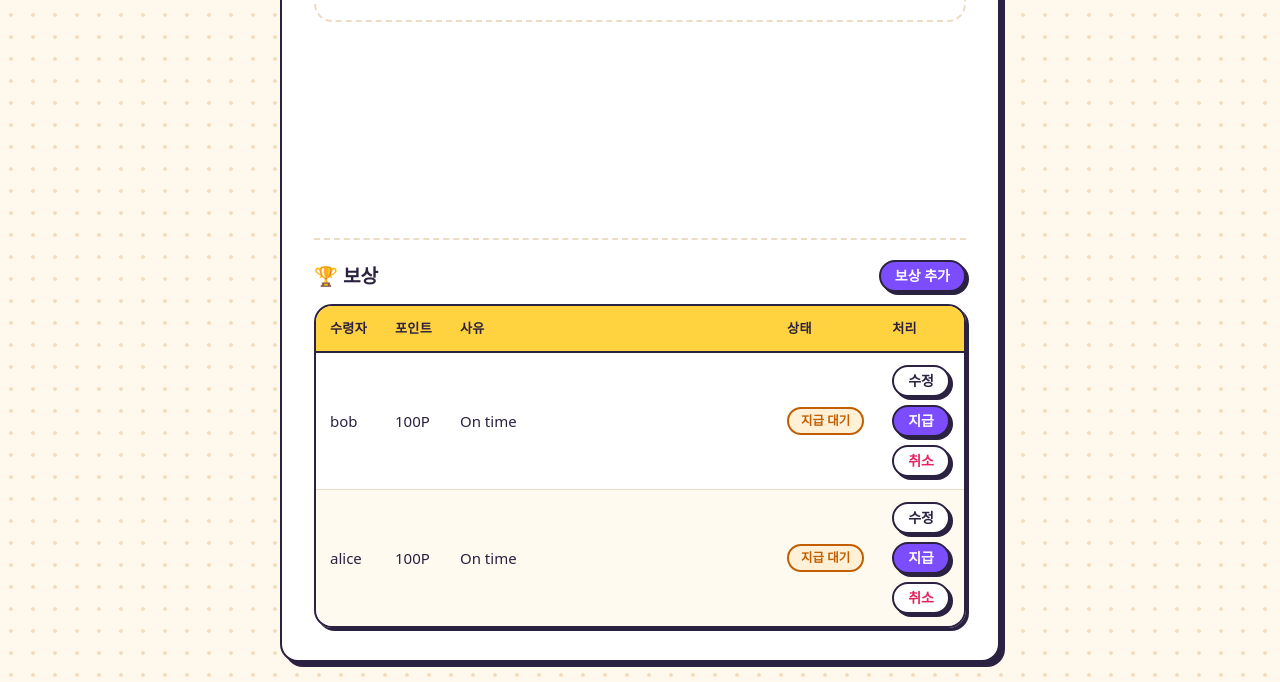
rewards › schedule detail section › pays after confirmation and edits with the loaded version
(page scrolled)
Click the button with aria-label "bob 보상 지급".
click(921, 421)  # box [892, 405, 950, 437]
(page scrolled)
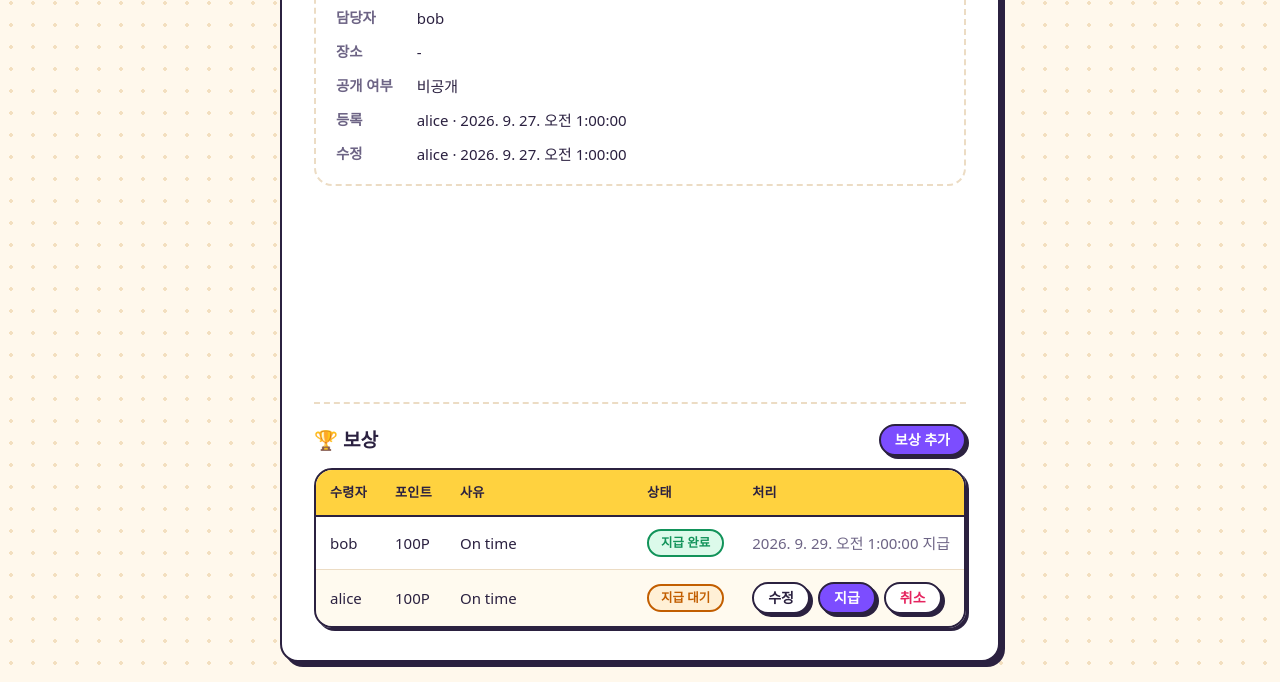
Result: the text "지급 완료" is shown at [647, 529, 724, 557]
Click the button with aria-label "alice 보상 수정".
click(781, 598)  # box [752, 582, 810, 614]
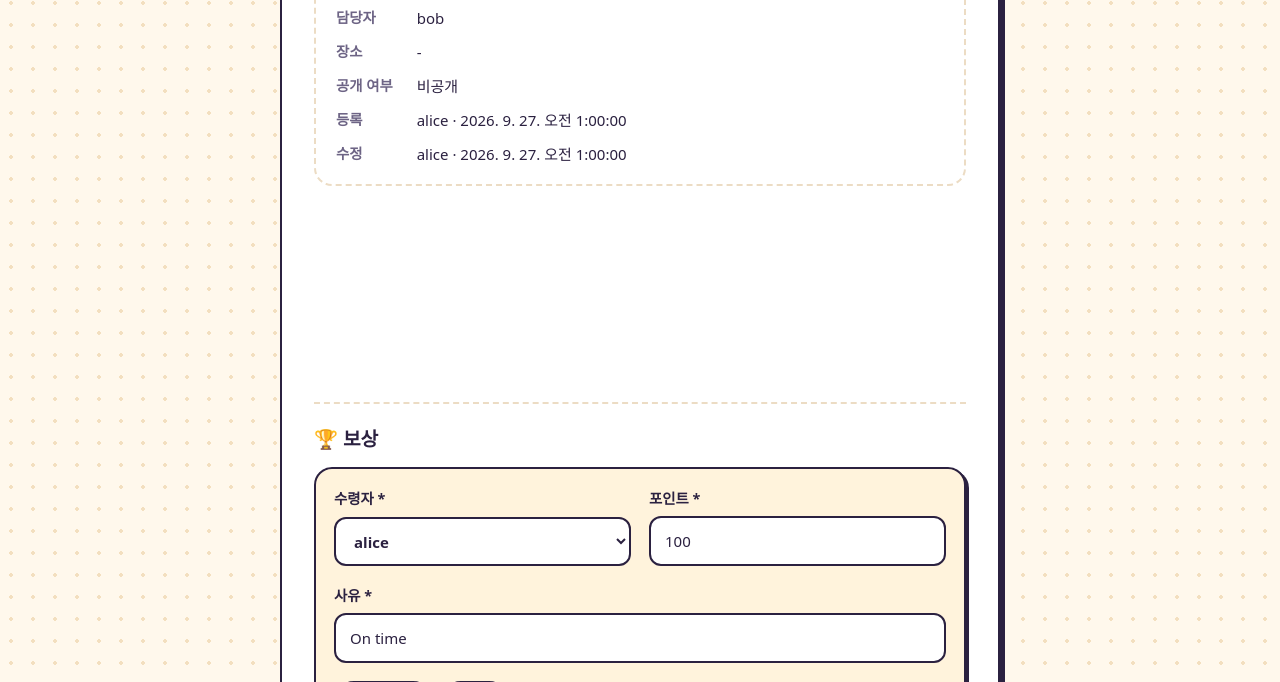
Replace the text in the number field labelled "포인트 *" with "40" at (798, 541), box [649, 516, 946, 566]
(page scrolled)
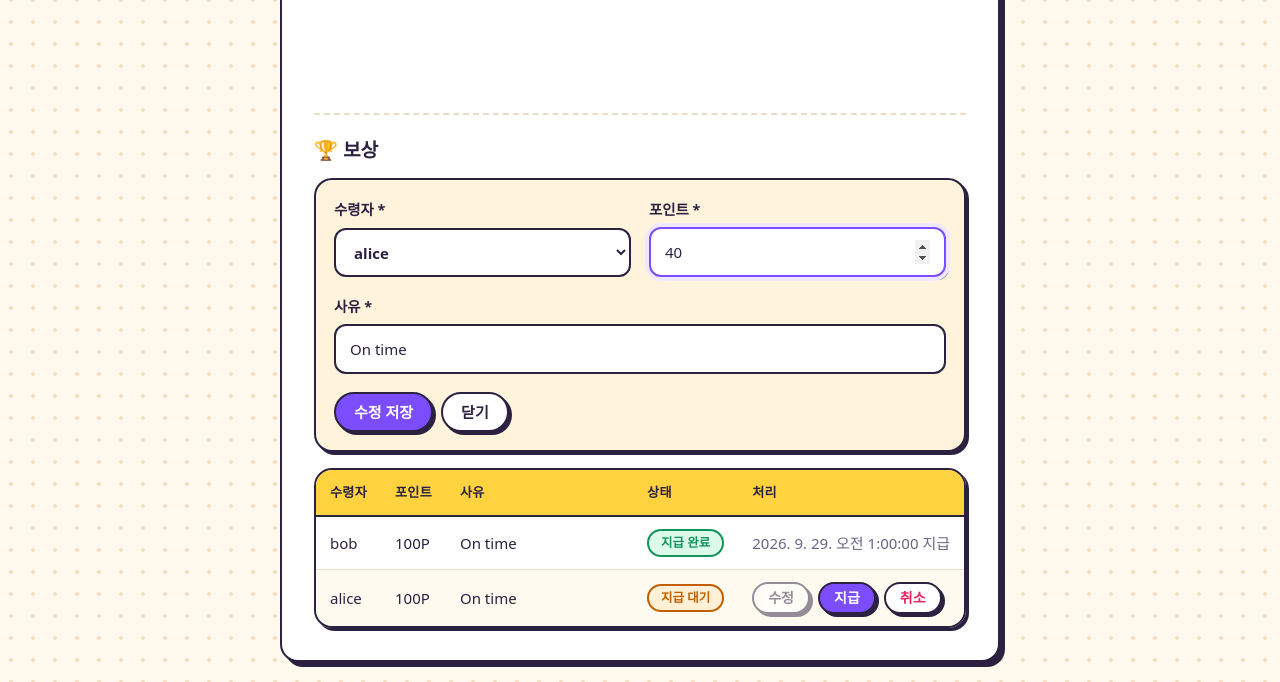
Click the button "수정 저장".
click(384, 412)  # box [334, 392, 433, 432]
(page scrolled)
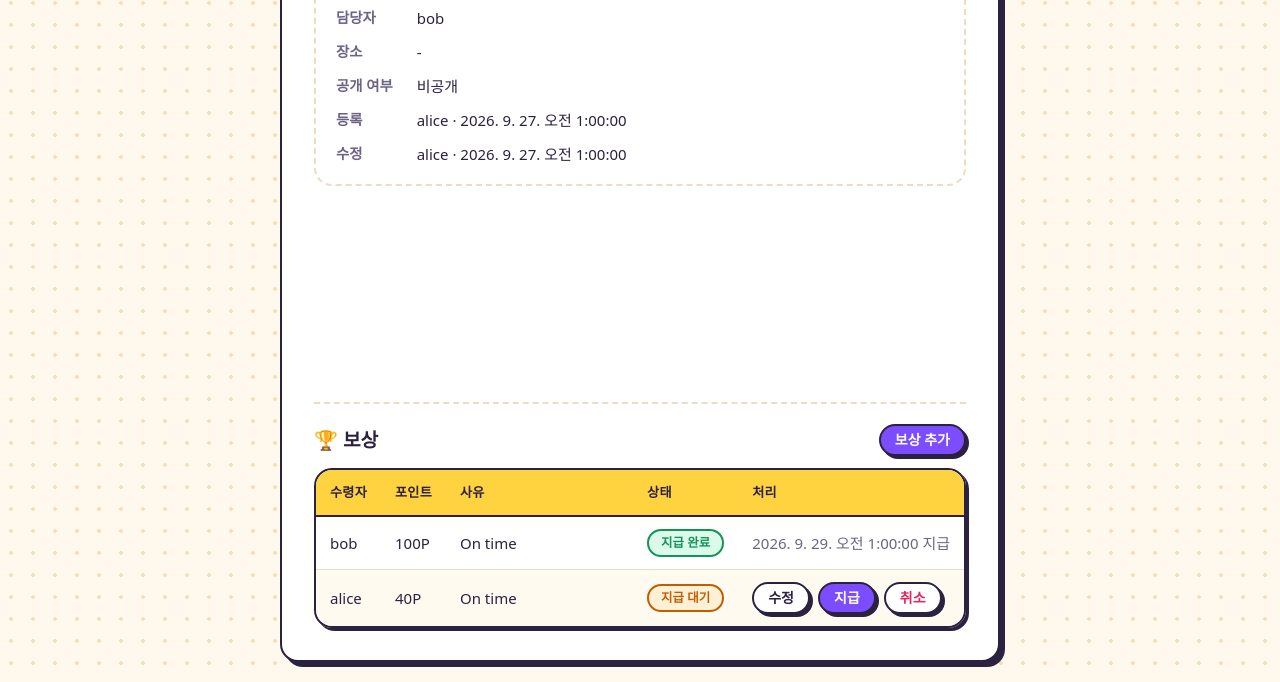
Result: the cell "40P" is shown at [381, 570, 446, 626]
